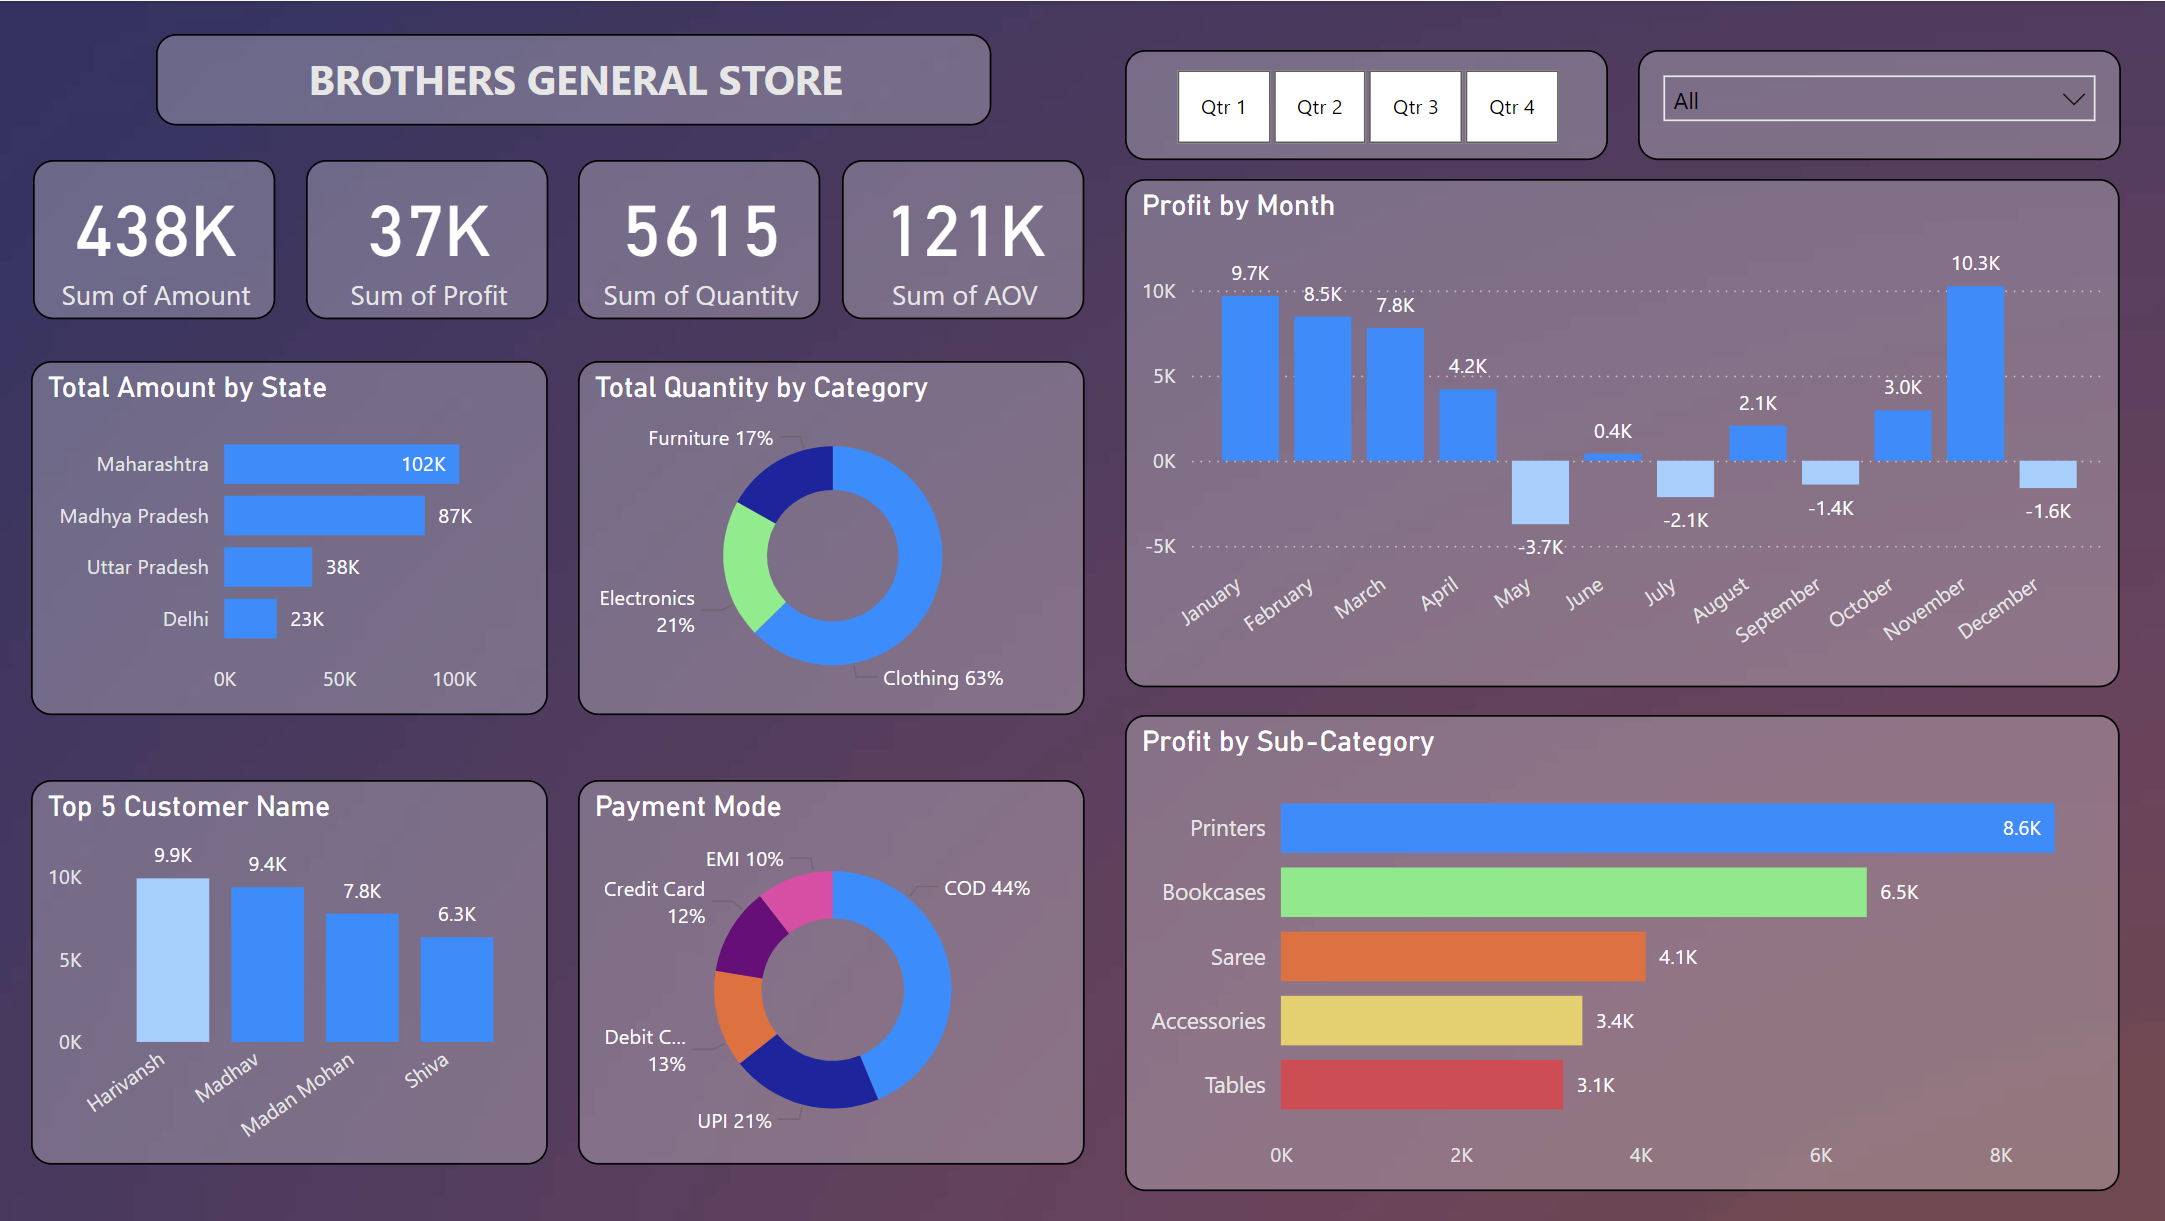

The dashboard page shown, as its layout file describes it:
{"tool":"powerbi","page":{"name":"Page 1","canvas":[1280,720],"ordinal":0},"visuals":[{"type":"textbox","box":[92.9,19.3,493.3,54.3],"z":0},{"type":"columnChart","title":"Profit by Month","fields":{"Y":["Details.Profit"],"Category":["Orders.Order Date.Variation.Date Hierarchy.Month"]},"box":[664.6,105.1,587.3,300],"z":1000},{"type":"slicer","fields":{"Values":["Orders.Order Date.Variation.Date Hierarchy.Quarter"]},"box":[664.6,29.1,284.8,64.6],"z":2000},{"type":"barChart","title":"Profit by Sub-Category","fields":{"Category":["Details.Sub-Category"],"Y":["Details.Profit"]},"box":[664.6,421.5,587.3,281],"z":3000},{"type":"slicer","fields":{"Values":["Orders.State"]},"box":[967.1,29.1,284.8,64.6],"z":4000},{"type":"donutChart","title":"Total Quantity by Category","fields":{"Category":["Details.Category"],"Y":["Details.Quantity"]},"box":[341.8,212.7,298.7,208.9],"z":5000},{"type":"donutChart","title":" Payment Mode","fields":{"Y":["Details.Quantity"],"Category":["Details.PaymentMode"]},"box":[341.8,459.5,298.7,226.6],"z":6000},{"type":"barChart","title":"Total Amount by State","fields":{"Category":["Orders.State"],"Y":["Details.Amount"]},"box":[19,212.7,305.1,208.9],"z":7000},{"type":"columnChart","title":"Top 5 Customer Name","fields":{"Category":["Orders.CustomerName"],"Y":["Details.Amount"]},"box":[19,459.5,305.1,226.6],"z":8000},{"type":"card","fields":{"Values":["Details.Amount"]},"box":[20.3,93.7,143,93.7],"z":9000},{"type":"card","fields":{"Values":["Details.Profit"]},"box":[181,93.7,143,93.7],"z":10000},{"type":"card","fields":{"Values":["Details.Quantity"]},"box":[341.8,93.7,143,93.7],"z":11000},{"type":"card","fields":{"Values":["Details.AOV"]},"box":[497.5,93.7,143,93.7],"z":12000}]}

Visuals, with their boxes in screenshot pixels (x1, y1, x2, y2), scaled from the page's 1280x720 canvas onto the 2165x1221 screenshot:
textbox: 157,33,992,125
"Profit by Month" columnChart: 1124,178,2117,687
slicer - Orders.Order Date.Variation.Date Hierarchy.Quarter: 1124,49,1606,159
"Profit by Sub-Category" barChart: 1124,715,2117,1191
slicer - Orders.State: 1636,49,2117,159
"Total Quantity by Category" donutChart: 578,361,1083,715
" Payment Mode" donutChart: 578,779,1083,1164
"Total Amount by State" barChart: 32,361,548,715
"Top 5 Customer Name" columnChart: 32,779,548,1164
card - Details.Amount: 34,159,276,318
card - Details.Profit: 306,159,548,318
card - Details.Quantity: 578,159,820,318
card - Details.AOV: 841,159,1083,318
